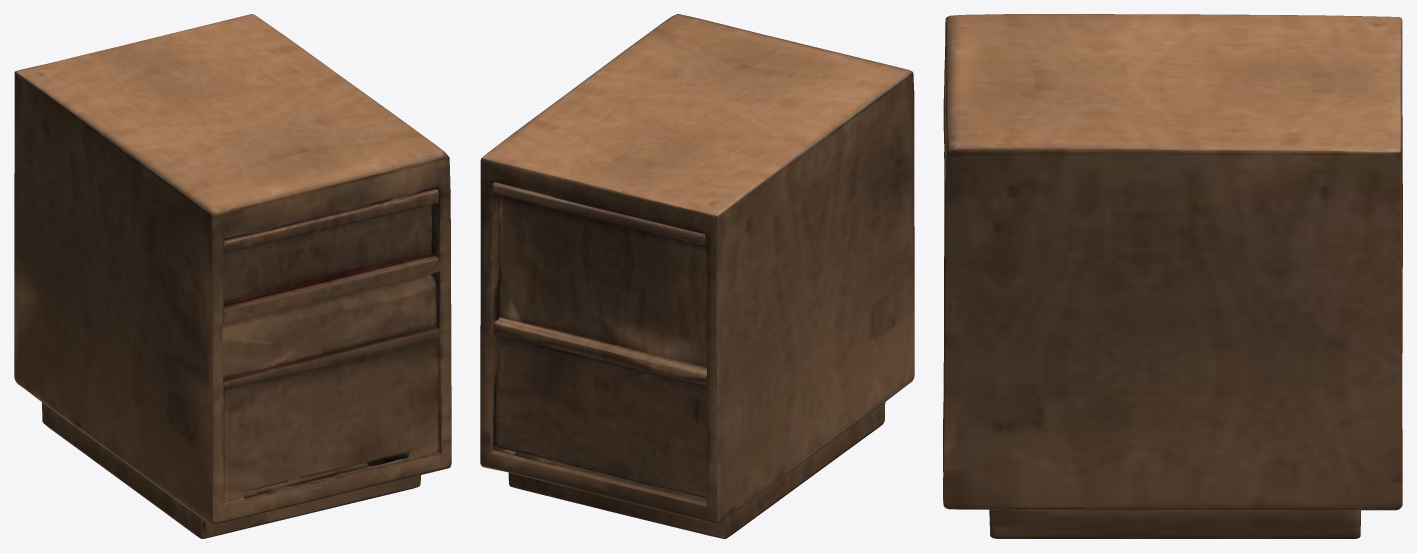
The model's file is bedside-table.lod1.glb.
3 renders of one model, left to right at view 1: azimuth 30°, elevation 25°; view 2: azimuth 150°, elevation 25°; view 3: azimuth 270°, elevation 25°, orthographic. The views are drawn at different scales.
Visible parts, largest first — view 1: geometry_0; view 2: geometry_0; view 3: geometry_0.
Part boxes in pixels (x1,y1,x2,y2): geometry_0: (14,14,451,538); geometry_0: (480,14,914,538); geometry_0: (943,14,1402,538).
Size of the model in its own units: 0.3599 by 0.4999 by 0.5197.
Materials: 1 (1 with a texture image).
